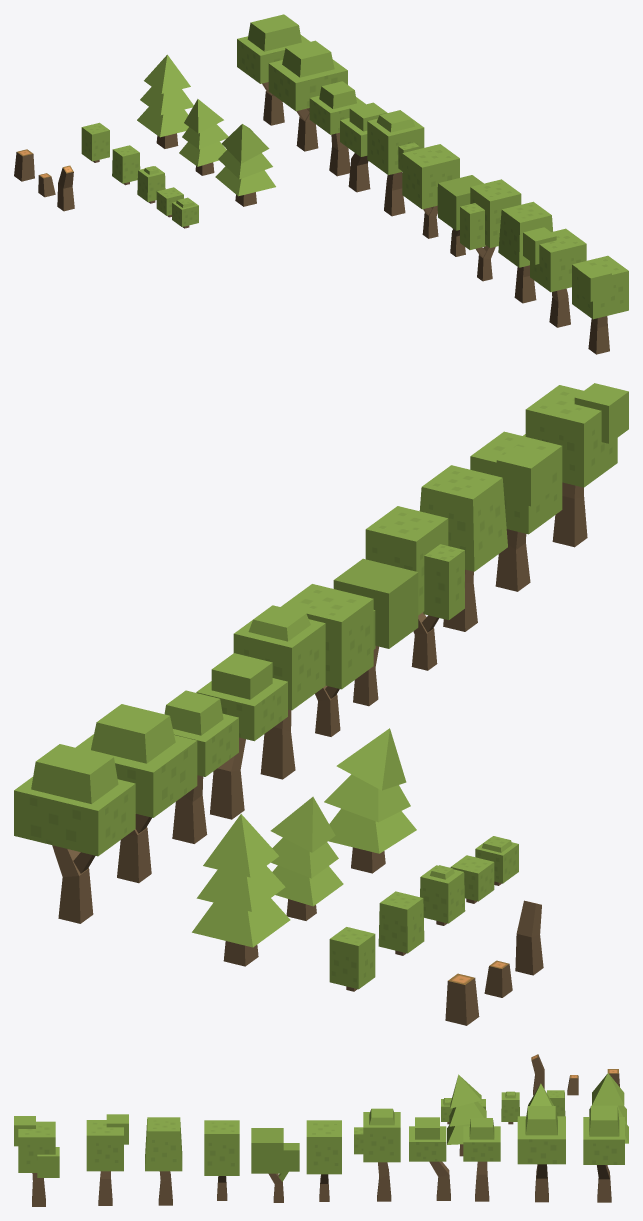
The model's file is tree_toon_low_poly.glb.
3 renders of one model, top to bottom at view 1: azimuth 30°, elevation 25°; view 2: azimuth 150°, elevation 25°; view 3: azimuth 270°, elevation 25°, orthographic. The views are drawn at different scales.
Parts seen in each view (by area): view 1: Tree_02, Tree_11, Tree_10, Tree_01, Tree_05, Tree_08, FirTree_01, Tree_06, FirTree_03, Tree_09, Tree_04, FirTree_02 (+9 smaller); view 2: Tree_01, Tree_02, Tree_11, FirTree_01, Tree_08, Tree_10, FirTree_03, Tree_05, Tree_09, Tree_03, Tree_06, FirTree_02 (+9 smaller); view 3: Tree_02, Tree_01, Tree_11, Tree_05, Tree_10, Tree_09, Tree_07, Tree_08, Tree_06, Tree_03, Tree_04, FirTree_03 (+6 smaller).
Part boxes in pixels (<box>): Tree_02: <box>268,40,347,151</box>; Tree_11: <box>572,255,628,354</box>; Tree_10: <box>523,227,586,327</box>; Tree_01: <box>237,14,310,125</box>; Tree_05: <box>367,110,424,216</box>; Tree_08: <box>460,179,521,281</box>; FirTree_01: <box>137,54,193,148</box>; Tree_06: <box>402,144,459,238</box>; FirTree_03: <box>215,124,275,206</box>; Tree_09: <box>498,201,552,303</box>; Tree_04: <box>309,81,365,176</box>; FirTree_02: <box>179,99,228,175</box>; Tree_01: <box>14,744,135,923</box>; Tree_02: <box>76,704,197,883</box>; Tree_11: <box>523,383,628,547</box>; FirTree_01: <box>192,814,290,966</box>; Tree_08: <box>365,506,464,670</box>; Tree_10: <box>470,431,562,591</box>; FirTree_03: <box>324,728,416,873</box>; Tree_05: <box>233,605,325,779</box>; Tree_09: <box>419,465,507,631</box>; Tree_03: <box>196,653,287,819</box>; Tree_06: <box>281,584,373,736</box>; FirTree_02: <box>270,796,343,920</box>; Tree_02: <box>517,1106,565,1202</box>; Tree_01: <box>583,1105,624,1202</box>; Tree_11: <box>14,1116,59,1206</box>; Tree_05: <box>354,1108,400,1201</box>; Tree_10: <box>86,1114,128,1205</box>; Tree_09: <box>145,1117,182,1205</box>; Tree_07: <box>251,1128,299,1202</box>; Tree_08: <box>204,1120,239,1200</box>; Tree_06: <box>306,1120,341,1201</box>; Tree_03: <box>409,1117,450,1200</box>; Tree_04: <box>463,1118,500,1201</box>; FirTree_03: <box>447,1074,486,1156</box>.
Size of the model in its own units: 10.2 by 3.35 by 21.45.
Materials: 1 (1 with a texture image).
